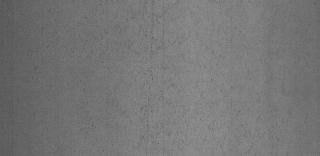silk spot: (200, 6, 312, 144), (86, 5, 192, 147)
